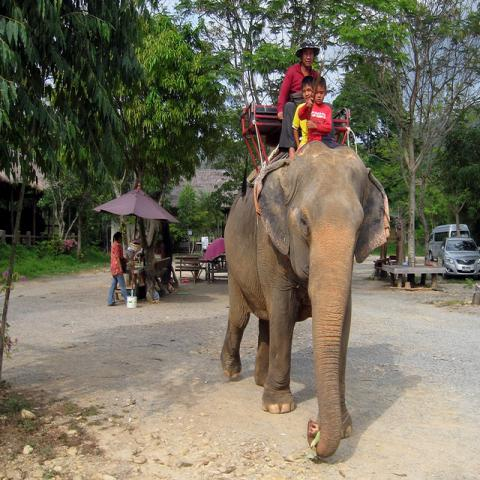car: (436, 238, 480, 280)
